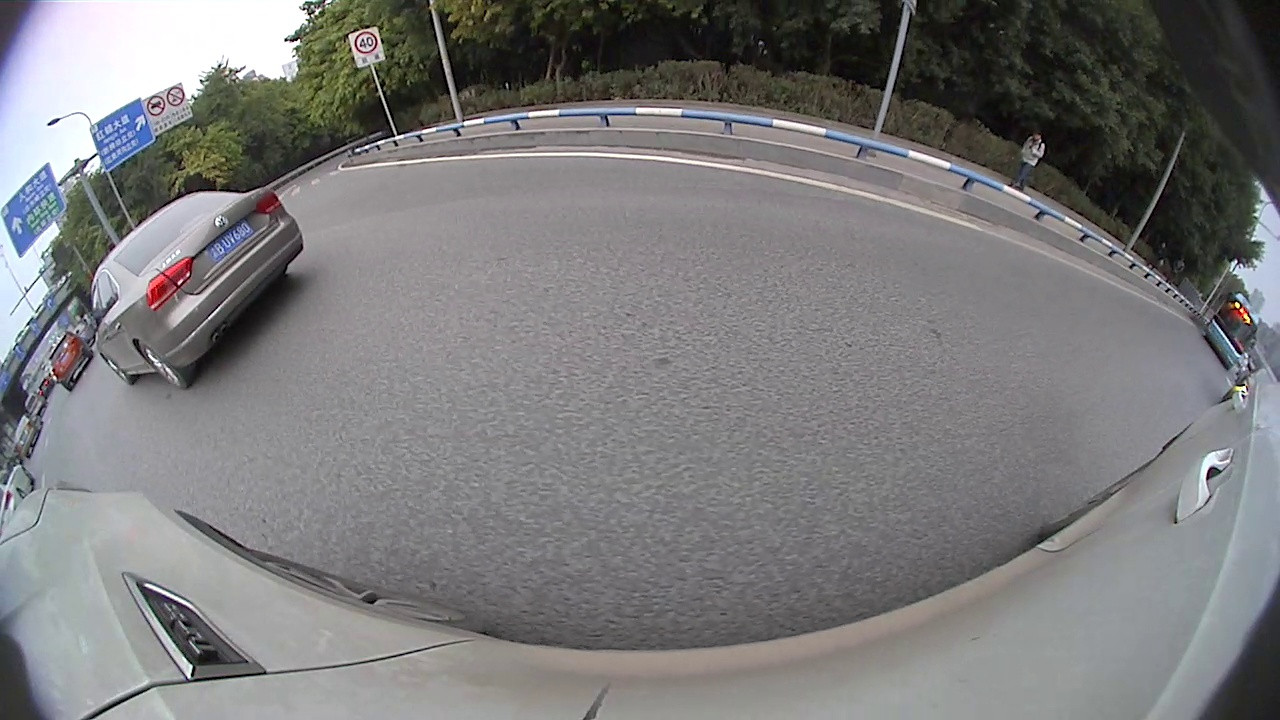bus: (1203, 291, 1259, 373)
car: (88, 187, 305, 390), (48, 330, 95, 393), (1220, 363, 1279, 406), (0, 463, 35, 528), (11, 413, 43, 461), (23, 391, 48, 416)
front: (100, 351, 135, 386)
person: (1023, 128, 1043, 188)
rear: (135, 336, 189, 393)
